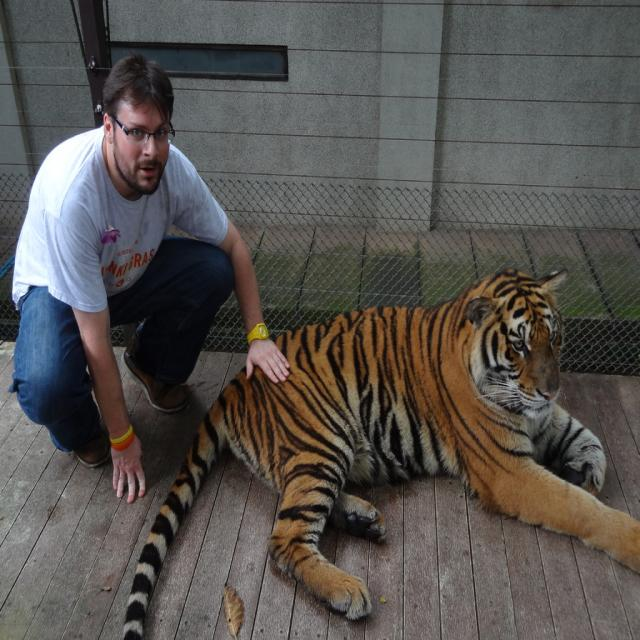Tiger: (120, 263, 640, 639)
